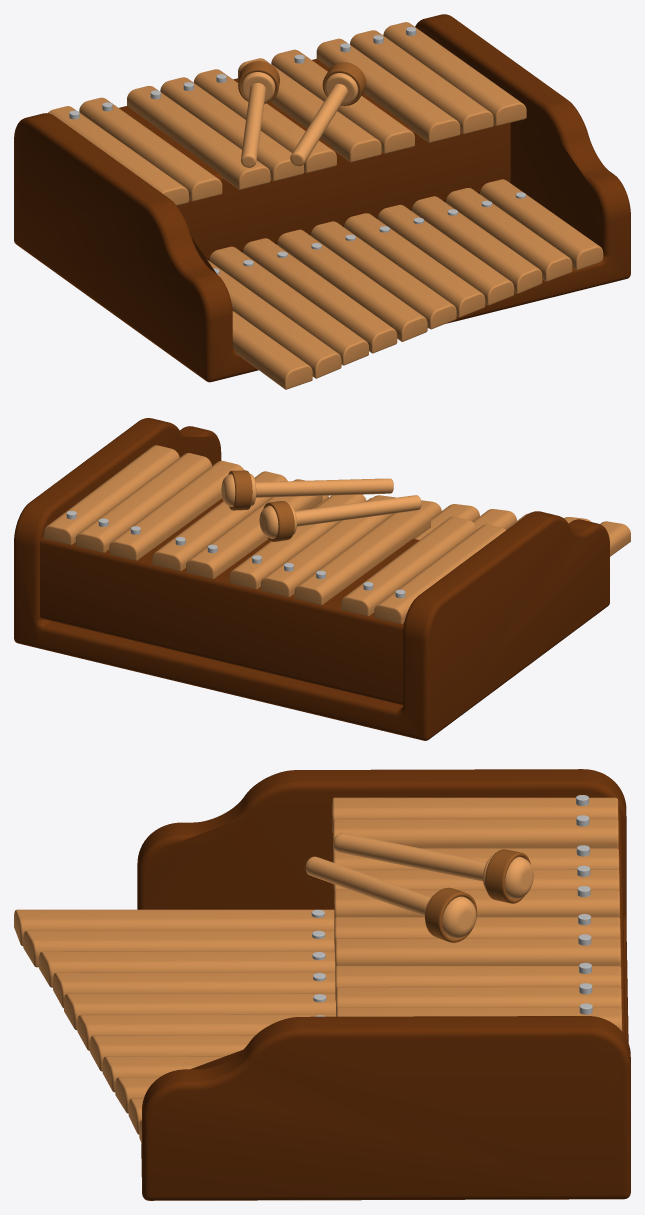
The model's file is Kolintang.fbx.
3 renders of one model, top to bottom at view 1: azimuth 30°, elevation 25°; view 2: azimuth 150°, elevation 25°; view 3: azimuth 270°, elevation 25°, orthographic. The views are drawn at different scales.
Visible parts, largest first — view 1: Wilahan, Peti Resonator, Peti Resonator.001, Stik Pemukul, Stik Pemukul.001, Baut, Cylinder.009, Cylinder.012; view 2: Peti Resonator, Wilahan, Peti Resonator.001, Stik Pemukul, Stik Pemukul.001, Baut, Cylinder.009, Cylinder.012; view 3: Peti Resonator, Wilahan, Stik Pemukul.001, Stik Pemukul, Baut, Cylinder.012, Cylinder.009, Peti Resonator.001.
Boxes of the visible parts, x1,y1,x2,y2 form: Wilahan: (48,22,603,389); Peti Resonator: (14,14,630,382); Peti Resonator.001: (119,59,510,260); Stik Pemukul: (290,73,358,166); Stik Pemukul.001: (241,72,275,167); Baut: (69,27,525,274); Cylinder.009: (322,62,366,105); Cylinder.012: (238,61,279,103); Peti Resonator: (14,418,609,740); Wilahan: (44,445,630,624); Peti Resonator.001: (40,498,419,705); Stik Pemukul: (221,474,393,506); Stik Pemukul.001: (259,495,421,538); Baut: (66,510,405,598); Cylinder.009: (228,470,252,510); Cylinder.012: (263,501,294,541); Peti Resonator: (137,769,630,1200); Wilahan: (14,797,622,1143); Stik Pemukul.001: (333,832,533,899); Stik Pemukul: (305,856,476,938); Baut: (311,795,592,1016); Cylinder.012: (485,849,530,903); Cylinder.009: (425,887,477,942); Peti Resonator.001: (618,812,625,1036).
Bounding box in the file's own units: 166 × 61.14 × 163.
